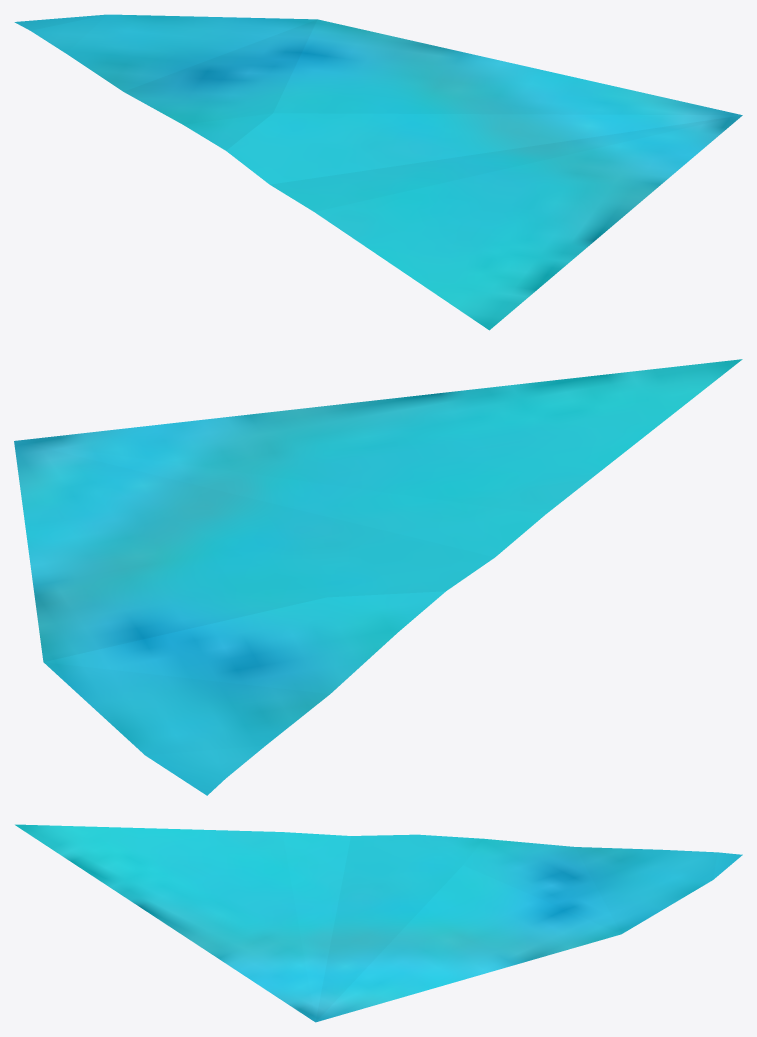
The picture shows the model from 3 angles, top to bottom: view 1: azimuth 30°, elevation 25°; view 2: azimuth 150°, elevation 25°; view 3: azimuth 270°, elevation 25°; orthographic projection. The views are drawn at different scales.
Bounding box in the file's own units: 4.92 × 0.4134 × 9.01.
Materials: 1 (1 with a texture image).
